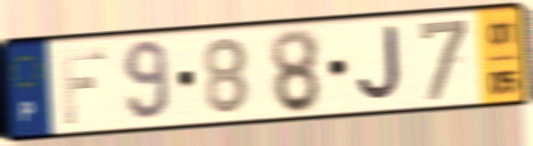7: (417, 16, 470, 103)
8: (267, 24, 325, 117), (201, 35, 253, 117)
9: (120, 37, 173, 126)
F: (57, 45, 109, 127)
J: (354, 23, 405, 106)
